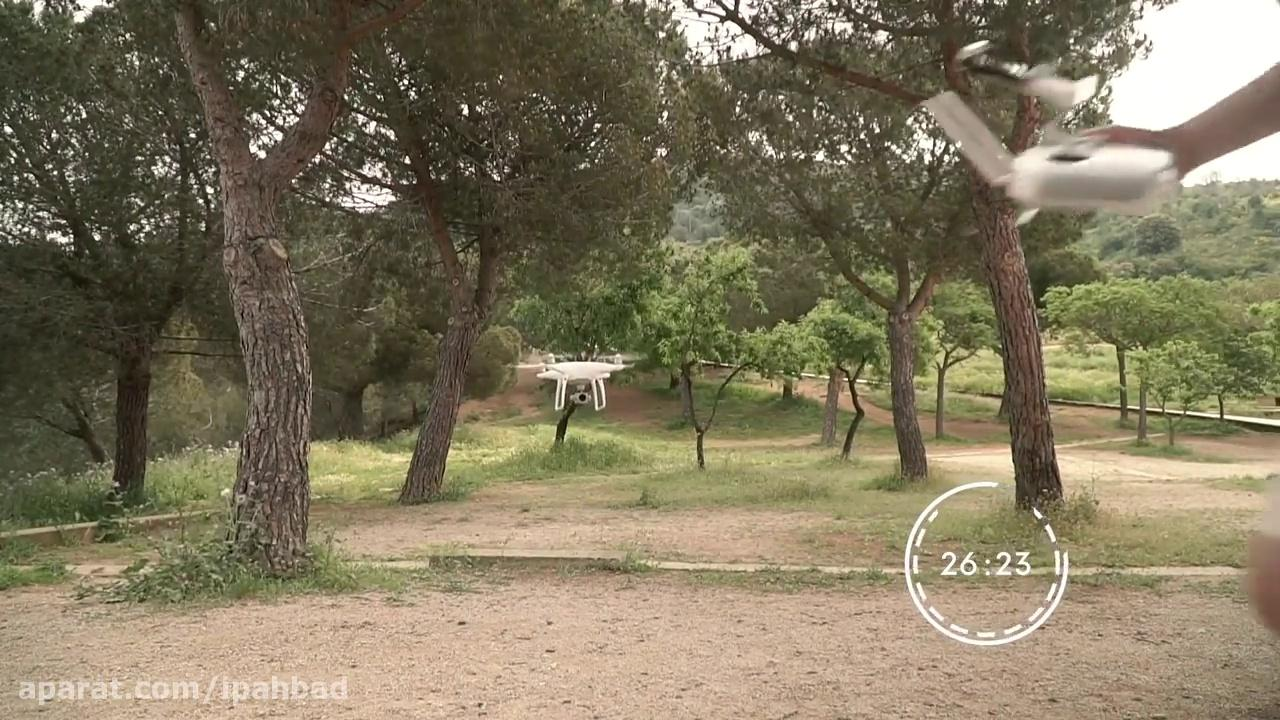drone: (506, 345, 654, 417)
